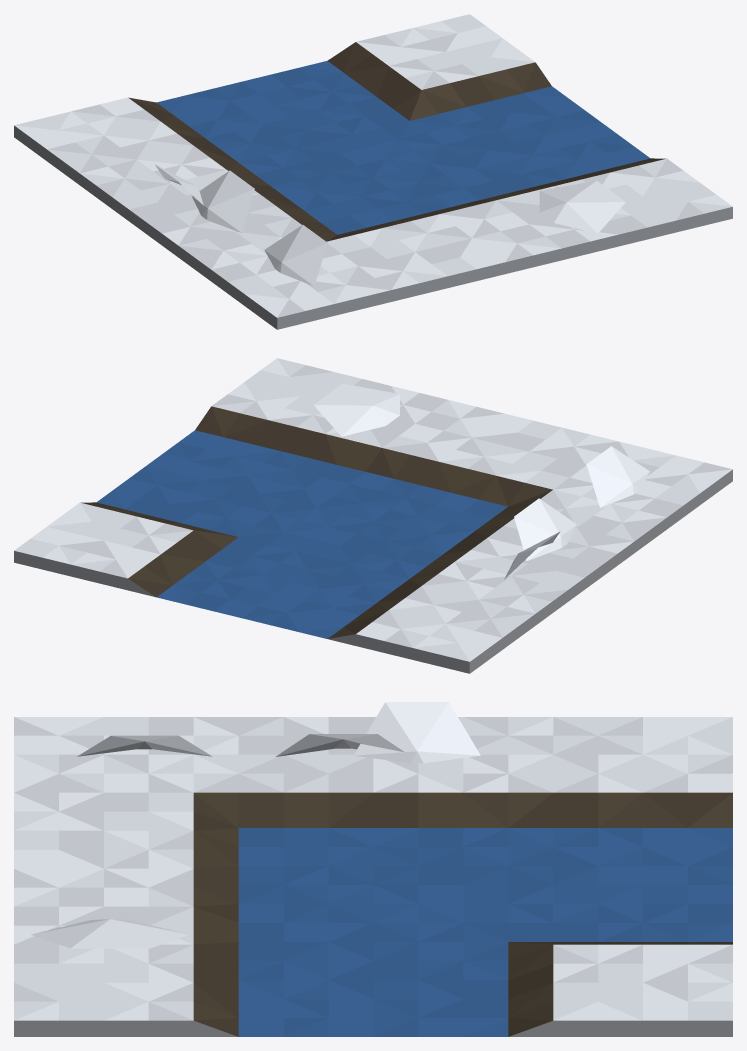
The model's file is river_bend_snow.glb.
The picture shows the model from 3 angles, top to bottom: view 1: azimuth 30°, elevation 25°; view 2: azimuth 150°, elevation 25°; view 3: azimuth 270°, elevation 25°; orthographic projection. The views are drawn at different scales.
Parts seen in each view (by area): view 1: river_bend_snow; view 2: river_bend_snow; view 3: river_bend_snow.
Boxes of the visible parts, <box> form: river_bend_snow: <box>14,14,732,329</box>; river_bend_snow: <box>14,358,732,673</box>; river_bend_snow: <box>14,702,732,1036</box>.
Bounding box in the file's own units: 4 × 0.49 × 4.
